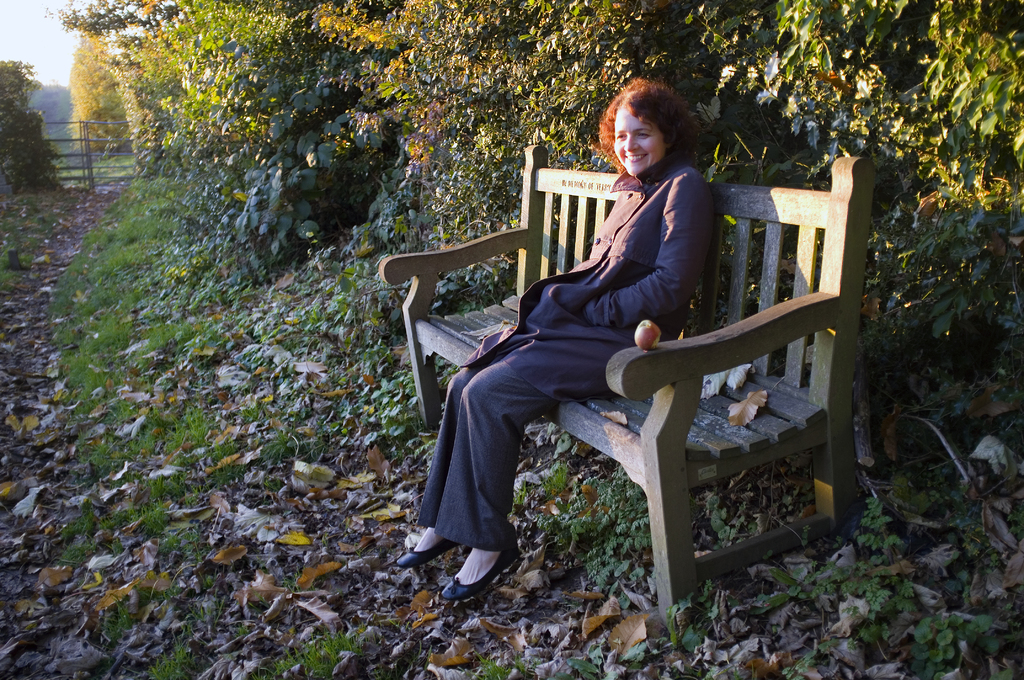Tree: (65, 0, 138, 156)
